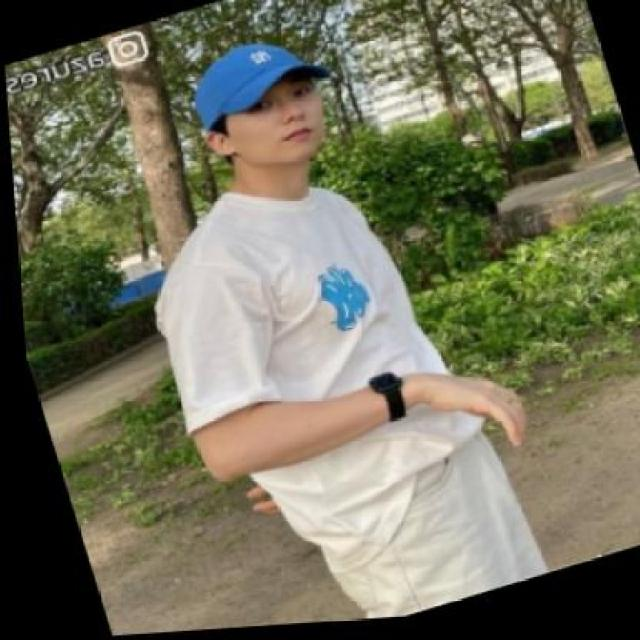hat: (175, 24, 340, 147)
